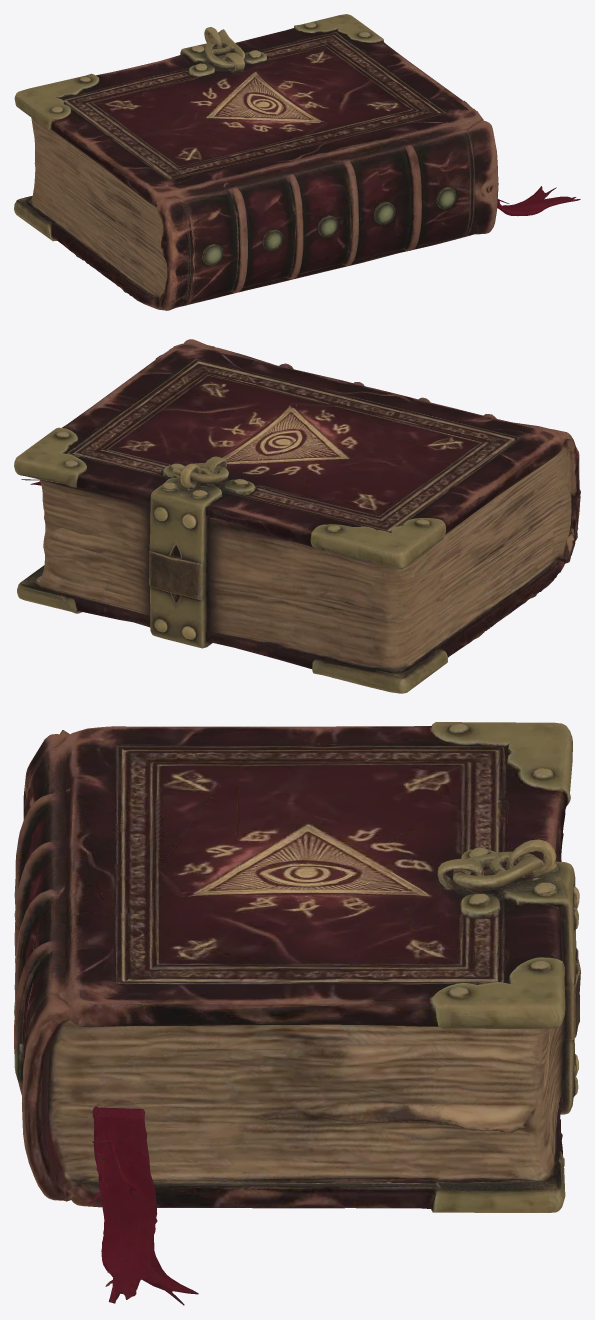
The model's file is grimoire.glb.
3 renders of one model, top to bottom at view 1: azimuth 30°, elevation 25°; view 2: azimuth 150°, elevation 25°; view 3: azimuth 270°, elevation 25°, orthographic. The views are drawn at different scales.
Visible parts, largest first — view 1: Mesh_0; view 2: Mesh_0; view 3: Mesh_0.
Part boxes in pixels (x1,y1,x2,y2): Mesh_0: (14,14,580,310); Mesh_0: (14,339,580,693); Mesh_0: (14,722,580,1305).
Bounding box in the file's own units: 1.9 × 0.6369 × 1.21.
Materials: 1 (1 with a texture image).
